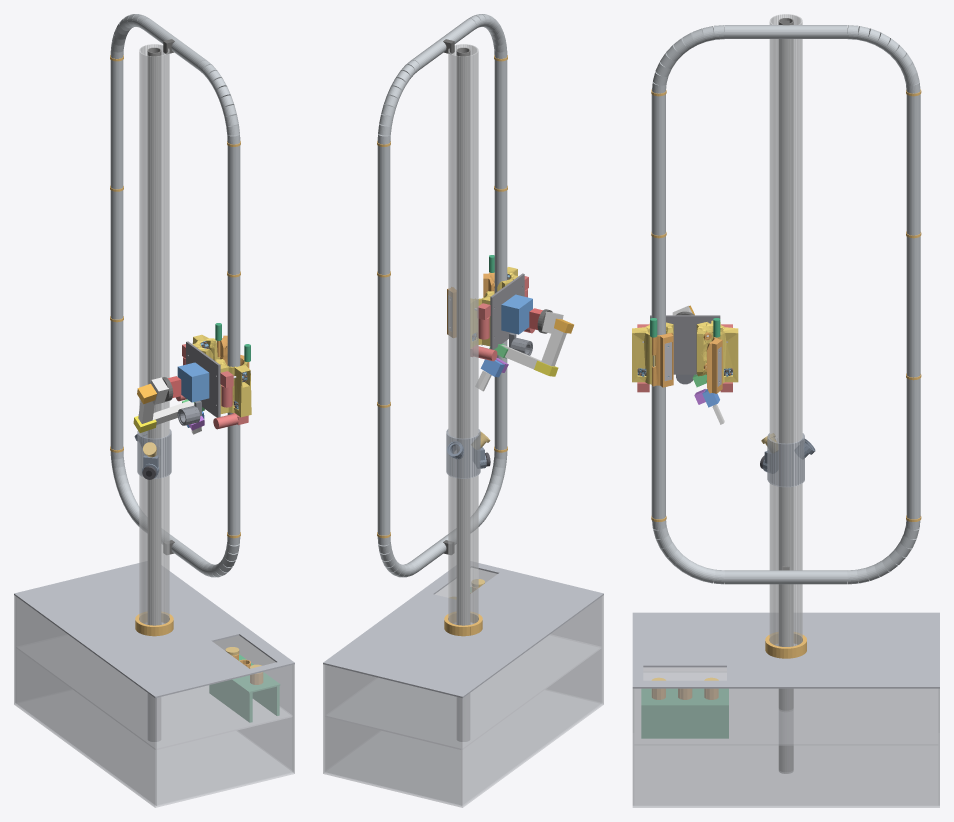
Rendered from transplant-seedling-step4-seat-v8.glb.
The picture shows the model from 3 angles, left to right: view 1: azimuth 30°, elevation 25°; view 2: azimuth 150°, elevation 25°; view 3: azimuth 270°, elevation 25°; orthographic projection. The views are drawn at different scales.
Bounding box in the file's own units: 0.4 × 1.9 × 0.701.
